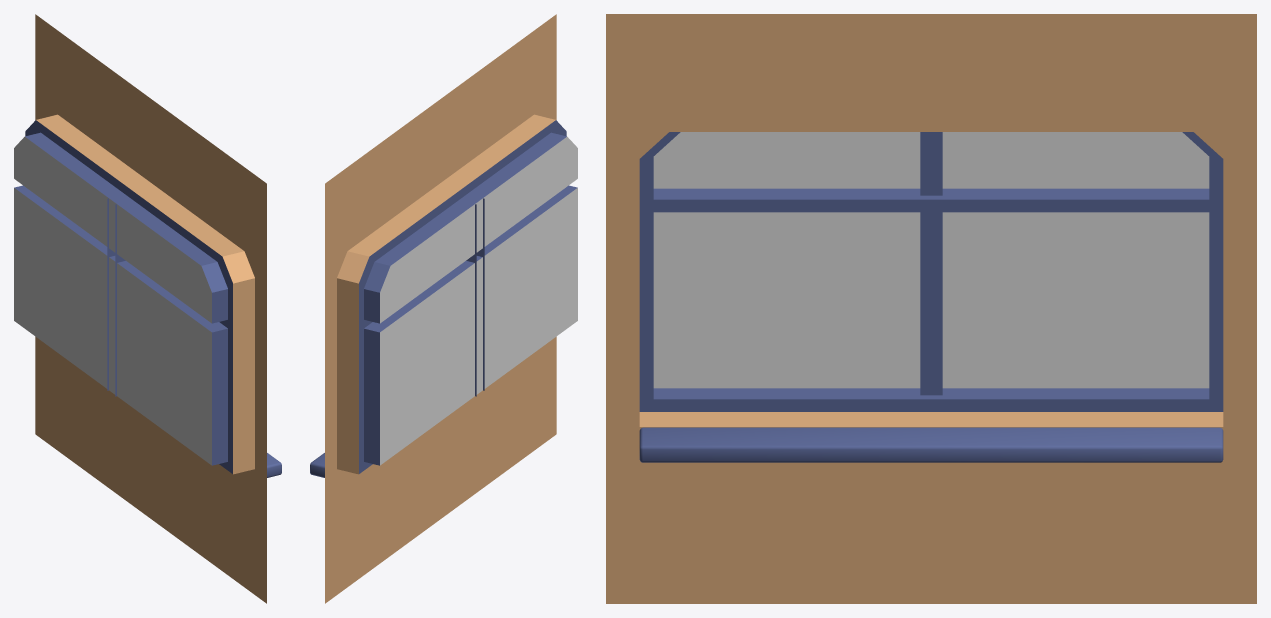
Rendered from sm_janela_01.fbx.
3 views of the same model, side by side, from view 1: azimuth 30°, elevation 25°; view 2: azimuth 150°, elevation 25°; view 3: azimuth 270°, elevation 25° (orthographic). The views are drawn at different scales.
Parts seen in each view (by area): view 1: sm_janela_01; view 2: sm_janela_01; view 3: sm_janela_01.
Boxes of the visible parts, x1,y1,x2,y2 form: sm_janela_01: [14, 14, 281, 603]; sm_janela_01: [310, 14, 577, 603]; sm_janela_01: [606, 14, 1256, 603].
Size of the model in its own units: 0.6726 by 4 by 4.
